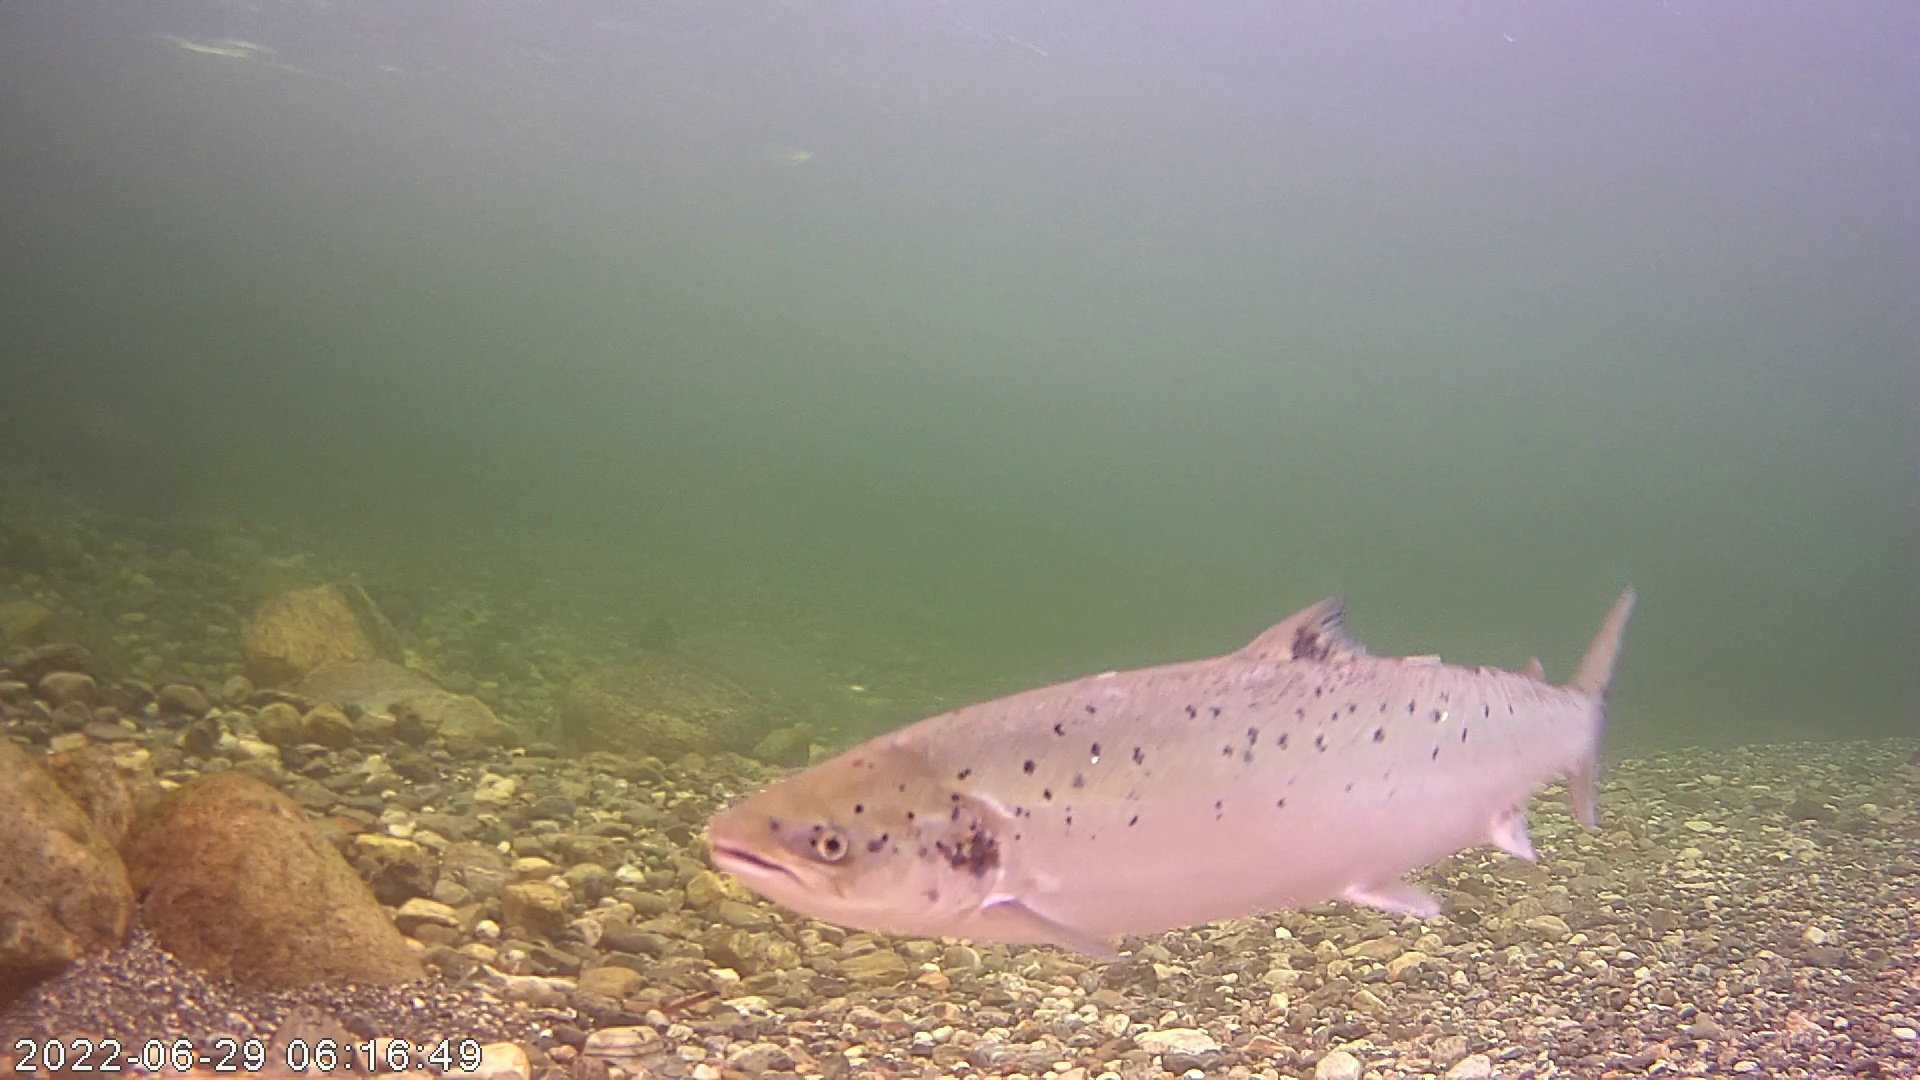salmon: (746, 506, 1630, 953)
